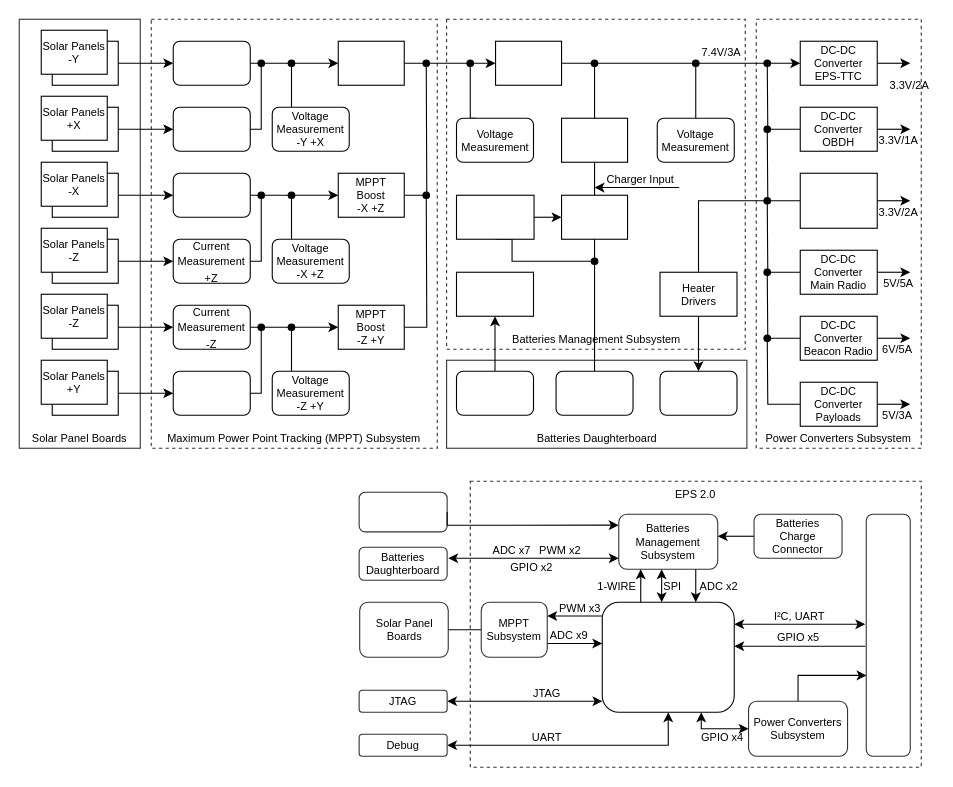
This 953x787 diagram has some shape labels left out. Each missing label, with the centre of its shape:
"Batteries Kill-Switches" goes at (594,139).
"Battery Cells" goes at (594,392).
"Battery Monitor (DS2775G+)" goes at (494,216).
"Current Measurement +X" goes at (211,128).
"Current Measurement +Y" goes at (211,392).
"Current Measurement -X" goes at (211,194).
"Current Measurement -Y" goes at (211,62).
"DC-DC Converter Antenna Deployer" goes at (838,200).
"Discharge and Charge Switches" goes at (594,216).
"Extenal ADC (ADS1248IPW)" goes at (494,293).
"Heater Actuators" goes at (698,392).
"Kill-Switches and RBF" goes at (402,511).
"Microcontroller" goes at (667,656).
"MPPT Boost -Y +X" goes at (370,62).
"PC-104 Bus" goes at (887,634).
"Solar Panels Kill-Switches" goes at (528,62).
"Temperature Measurement RTDS" goes at (494,392).
